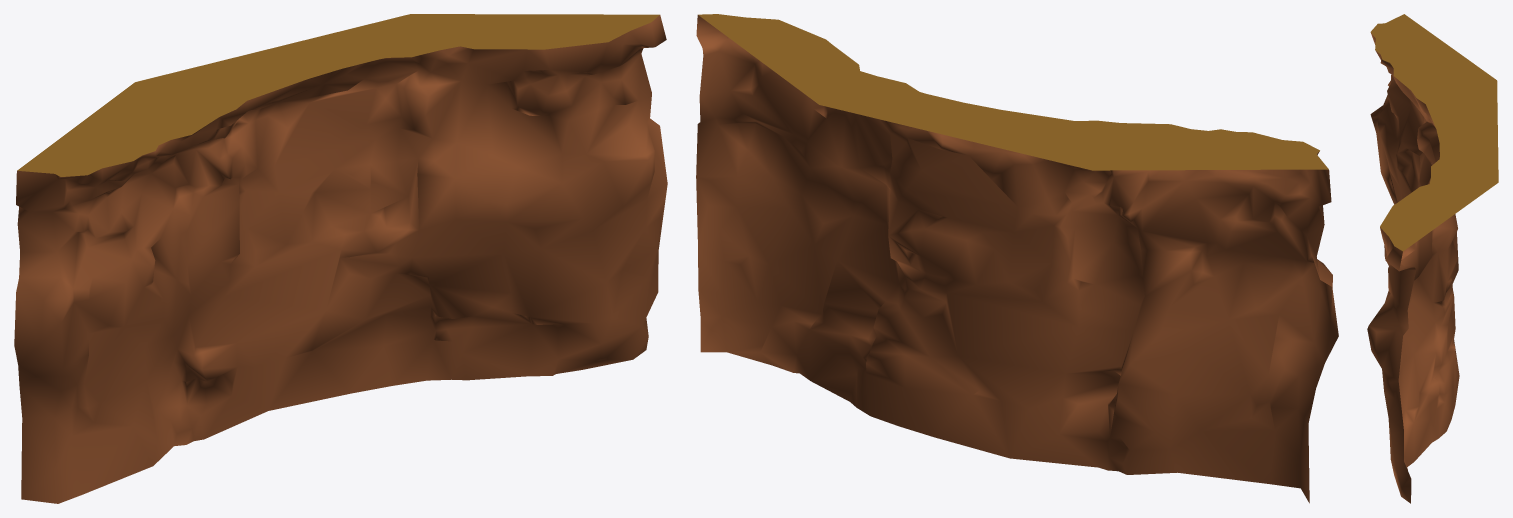
The model's file is Cliff_Wall03.FBX.
3 renders of one model, left to right at view 1: azimuth 30°, elevation 25°; view 2: azimuth 150°, elevation 25°; view 3: azimuth 270°, elevation 25°, orthographic. The views are drawn at different scales.
Parts seen in each view (by area): view 1: Cliff_Wall03; view 2: Cliff_Wall03; view 3: Cliff_Wall03.
Part boxes in pixels (<box>): Cliff_Wall03: <box>14,14,667,503</box>; Cliff_Wall03: <box>696,14,1338,503</box>; Cliff_Wall03: <box>1367,14,1498,503</box>.
Size of the model in its own units: 3403 by 1678 by 782.
